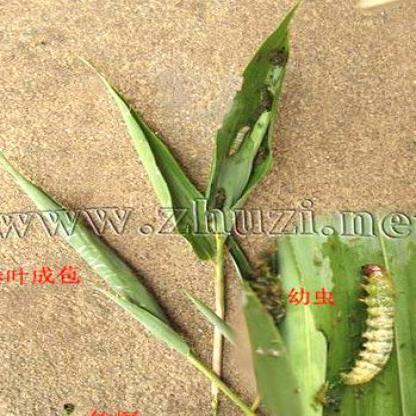leaf-folder: (345, 252, 411, 391), (224, 119, 252, 170)
